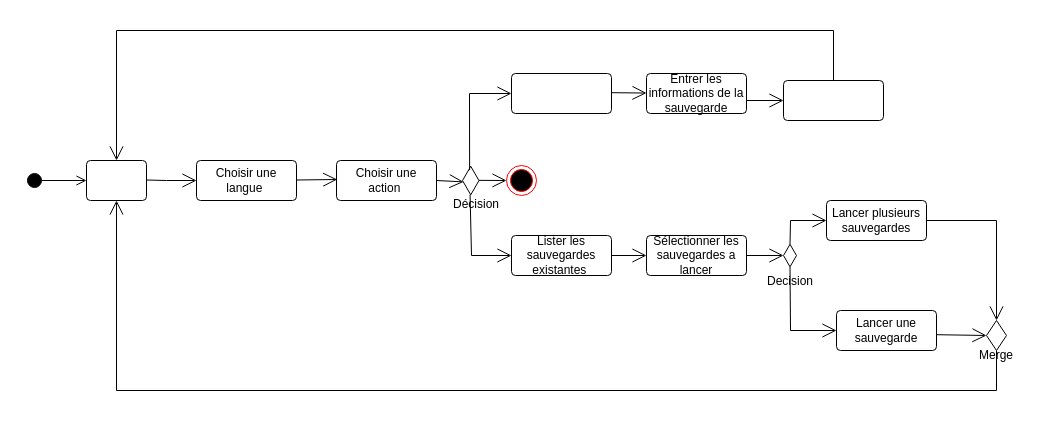
This 1044x422 diagram has some shape labels left out. The shapes that lost their labels are listed below. From the top down, each one's centre as x and y in pixels, then its label:
At [561,93]: "Demande de création de sauvegarde".
At [833,100]: "Créer la sauvegarde".
At [116,180]: "Début d'action".
